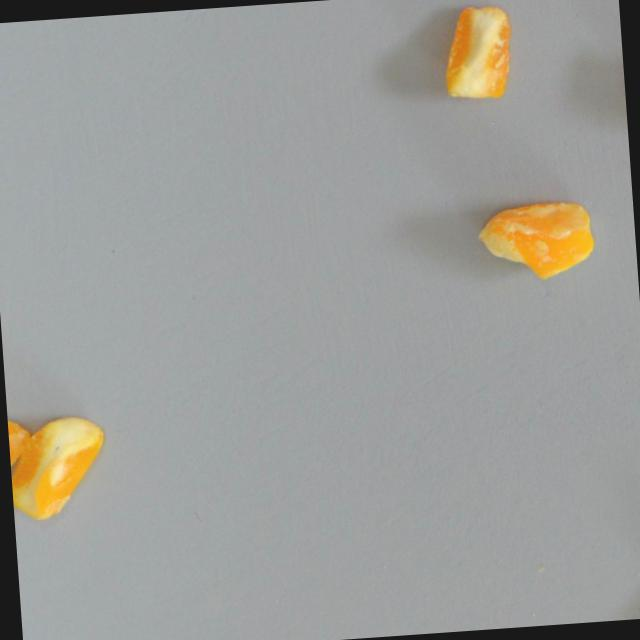pelicula: (6, 410, 110, 522), (473, 199, 596, 285), (436, 2, 513, 101), (6, 412, 32, 502)
